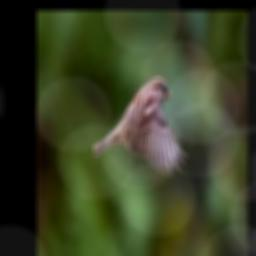Sparrow: (94, 76, 188, 176)
